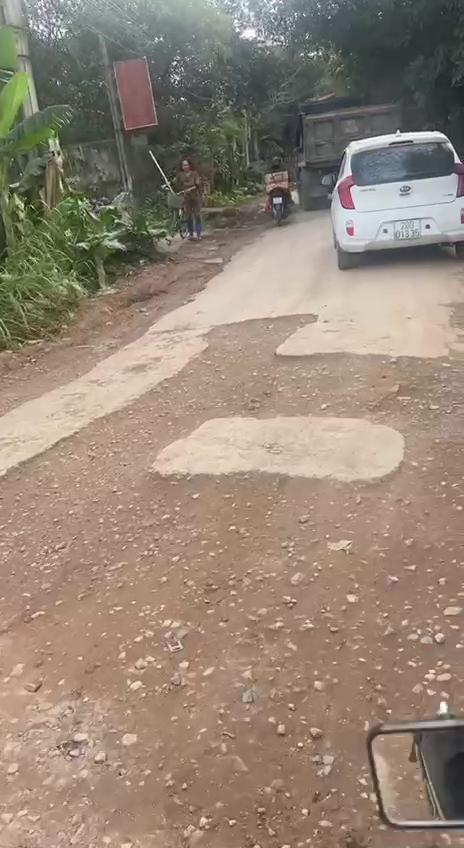pothole: (0, 311, 464, 848)
